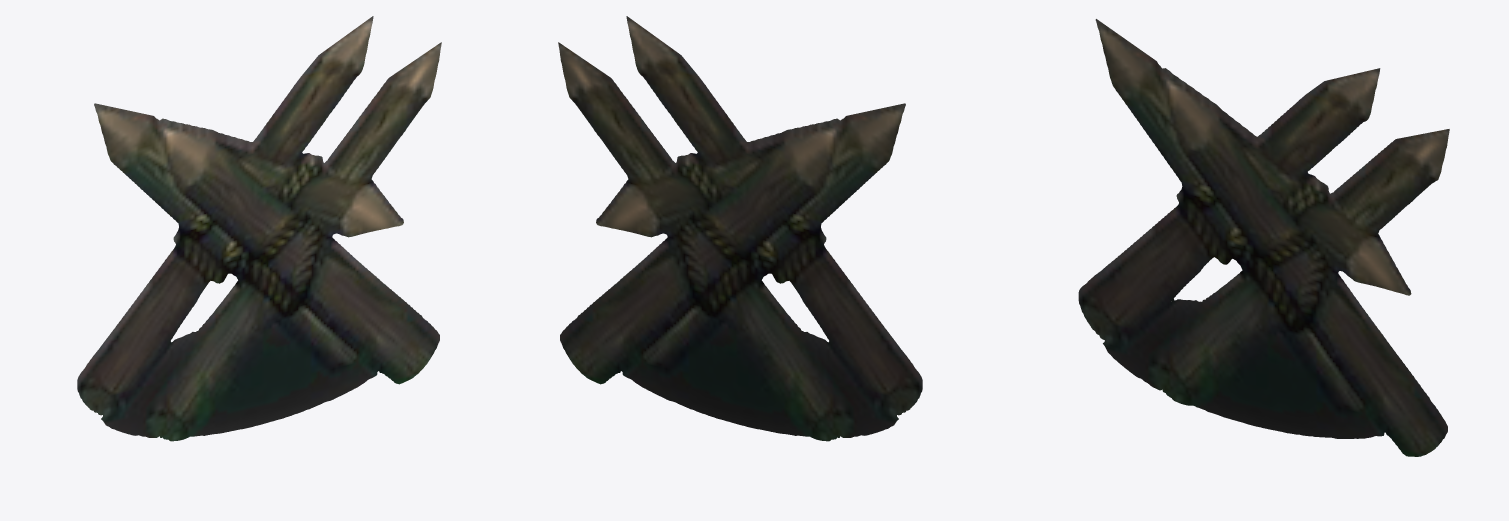
Rendered from Dungeon_Ruolan_L_Sceneobj_10.FBX.
3 views of the same model, side by side, from view 1: azimuth 30°, elevation 25°; view 2: azimuth 150°, elevation 25°; view 3: azimuth 330°, elevation 25° (orthographic).
Visible parts, largest first — view 1: Dungeon_Ruolan_L_Sceneobj_10; view 2: Dungeon_Ruolan_L_Sceneobj_10; view 3: Dungeon_Ruolan_L_Sceneobj_10.
Boxes of the visible parts, box(x1,y1,x2,y2) form: Dungeon_Ruolan_L_Sceneobj_10: box(77, 16, 441, 441); Dungeon_Ruolan_L_Sceneobj_10: box(558, 16, 922, 441); Dungeon_Ruolan_L_Sceneobj_10: box(1078, 19, 1449, 456).
Bounding box in the file's own units: 2.56 × 2.1 × 3.66e-07.
